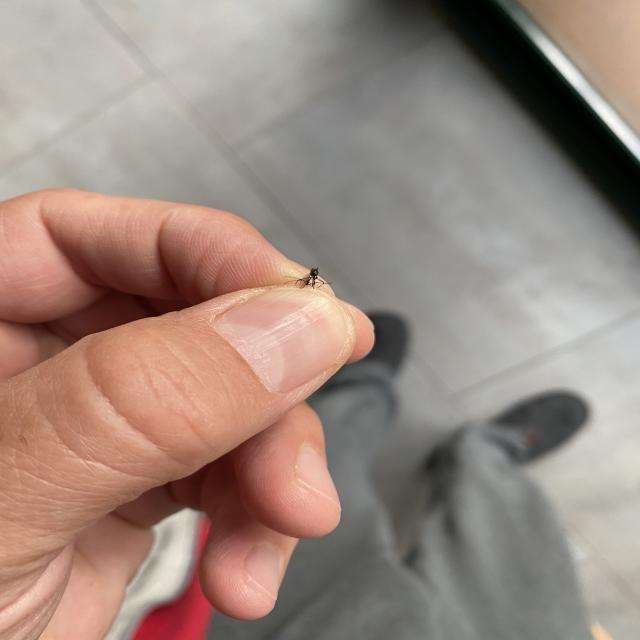albopictus: (281, 264, 335, 293)
